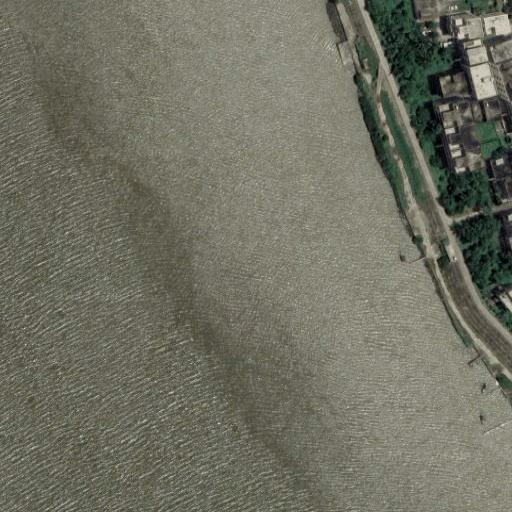building: (439, 99, 474, 129), (470, 63, 498, 100), (450, 144, 483, 174), (445, 122, 479, 151), (439, 71, 470, 98), (455, 16, 482, 41), (497, 60, 512, 102), (489, 39, 512, 63), (485, 14, 510, 35), (466, 45, 489, 66), (491, 157, 512, 179), (416, 0, 437, 21), (485, 100, 502, 121), (500, 293, 512, 313), (503, 214, 512, 236), (505, 180, 512, 199)
